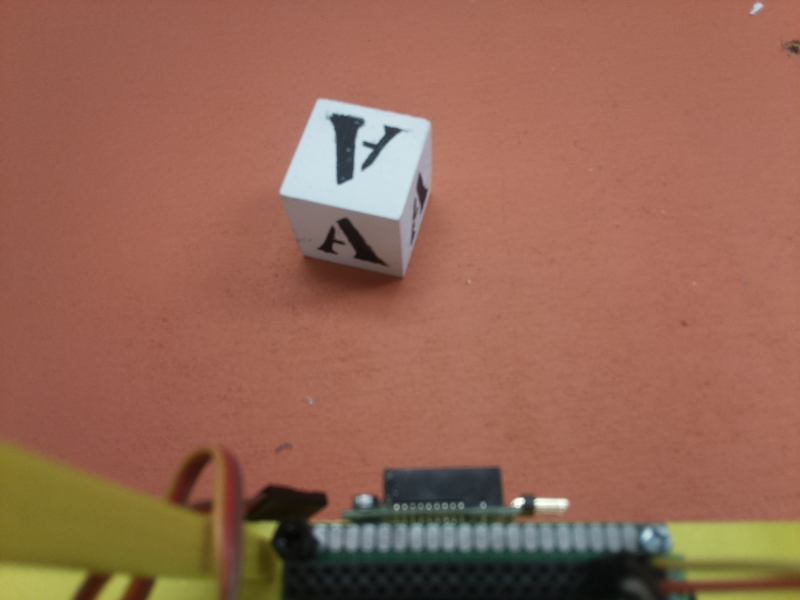blockA: (277, 96, 434, 288)
